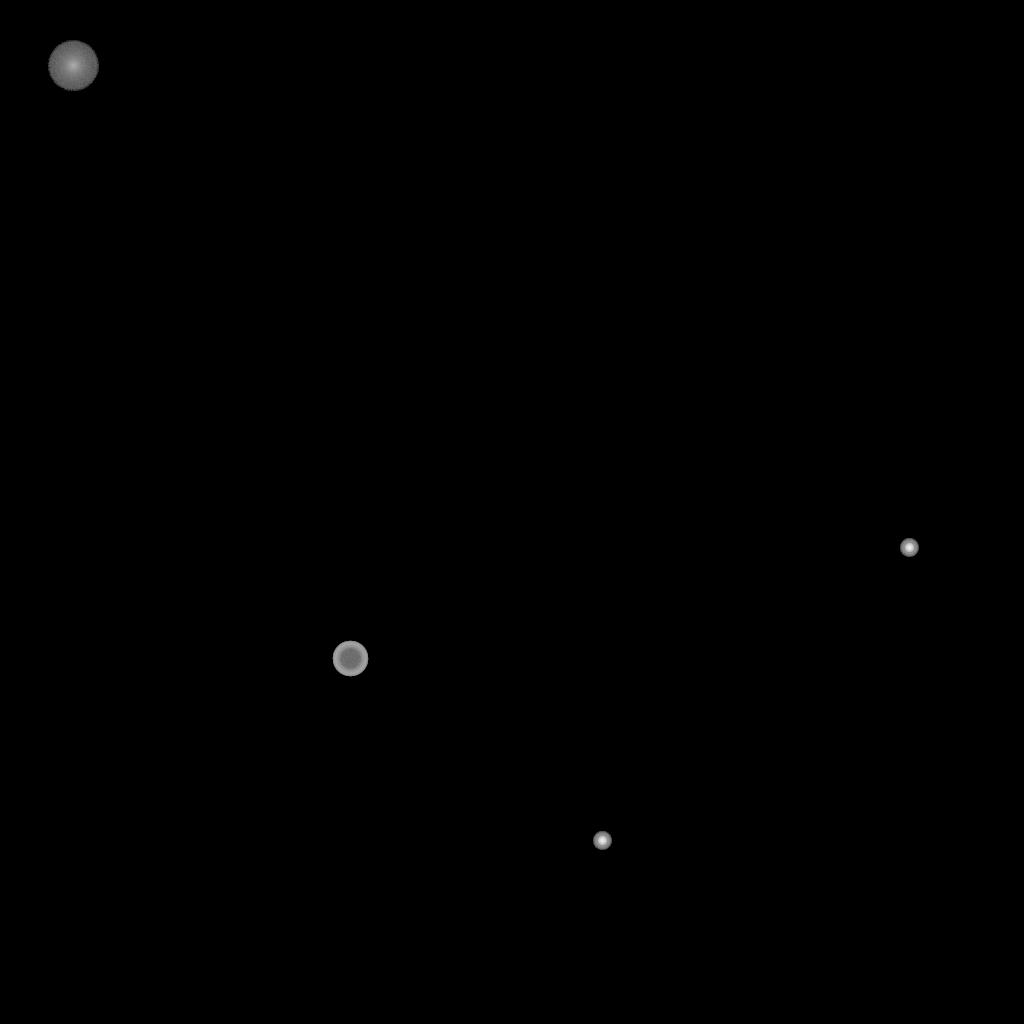depth:-20: (900, 539, 918, 557), (593, 832, 611, 850)
depth:-60: (332, 641, 368, 677)
depth:20: (47, 41, 99, 91)
